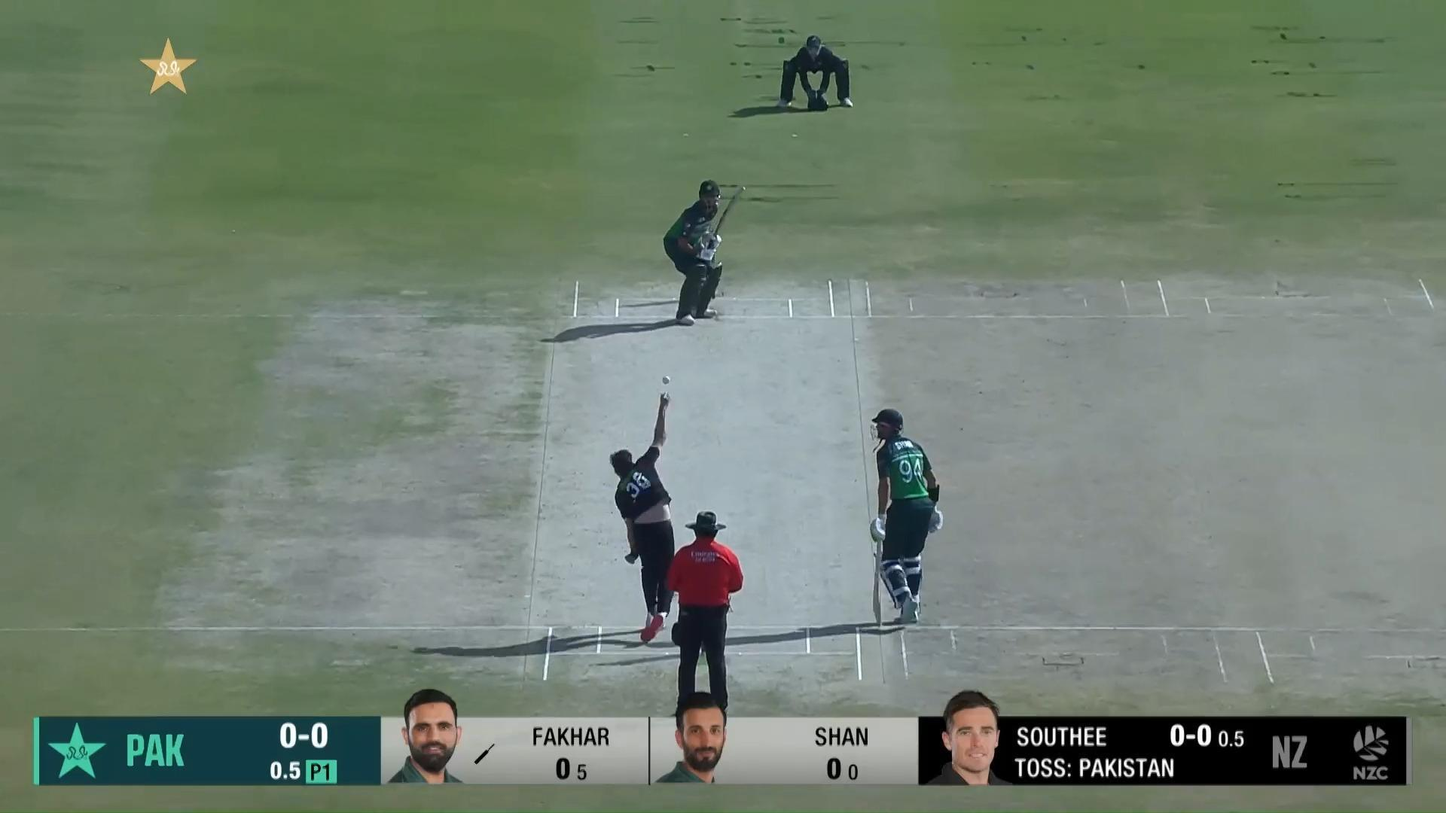BM 1: (664, 180, 747, 326)
BO: (610, 392, 675, 644)
